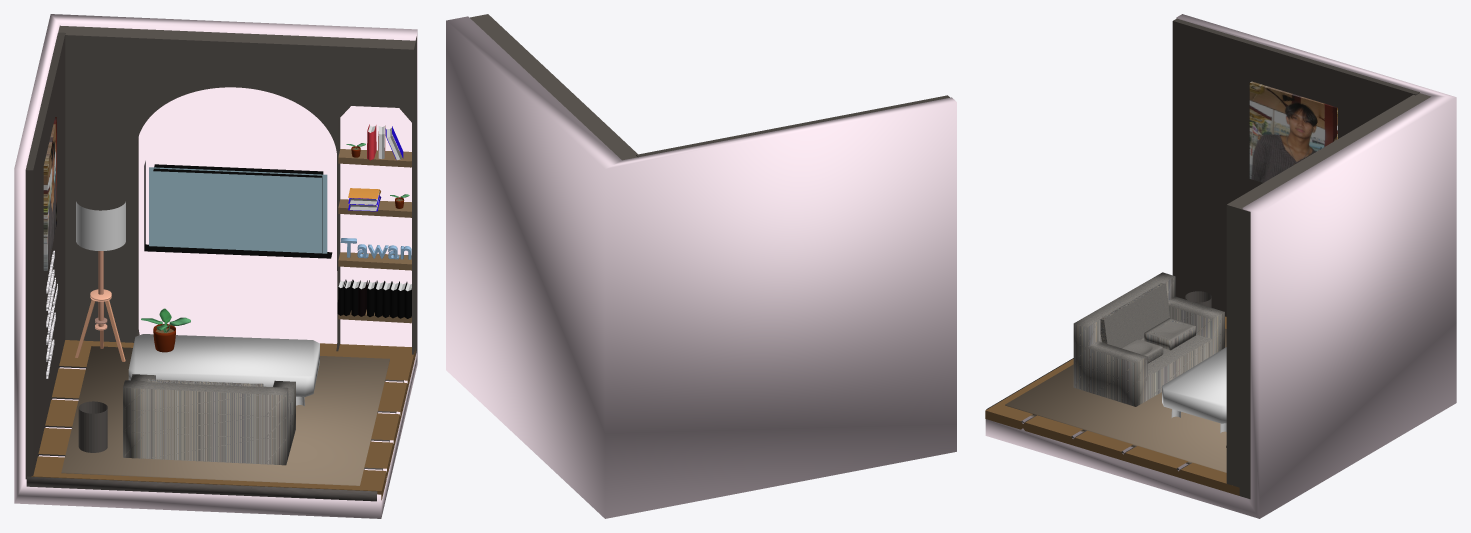
Rendered from room.glb.
3 renders of one model, left to right at view 1: azimuth 30°, elevation 25°; view 2: azimuth 150°, elevation 25°; view 3: azimuth 270°, elevation 25°, orthographic. The views are drawn at different scales.
Visible parts, largest first — view 1: Cube, ื, Plane, Plane.018, Plane.001, Cube.002, Cube.004, Plane.006, Cube.003, Plane.007, Cylinder.004, Plane.016 (+7 smaller); view 2: Cube, ื, Cube.002; view 3: Cube, Cube.002, ื, Plane.001, Plane, Plane.016, Cube.004, Plane.006, Plane.005, Plane.003.
Part boxes in pixels (<box>): Cube: <box>14,14,417,518</box>; ื: <box>58,25,416,355</box>; Plane: <box>61,346,389,485</box>; Plane.018: <box>149,167,327,253</box>; Plane.001: <box>123,374,295,465</box>; Cube.002: <box>25,32,65,479</box>; Cube.004: <box>31,340,415,500</box>; Plane.006: <box>128,334,319,396</box>; Cube.003: <box>26,366,403,501</box>; Plane.007: <box>144,161,332,258</box>; Cylinder.004: <box>76,201,125,250</box>; Plane.016: <box>43,117,56,270</box>; Cube: <box>446,16,956,518</box>; ื: <box>470,14,637,160</box>; Cube.002: <box>636,95,949,157</box>; Cube: <box>985,14,1456,518</box>; Cube.002: <box>1172,18,1419,316</box>; ื: <box>1226,93,1431,499</box>; Plane.001: <box>1073,272,1224,406</box>; Plane: <box>1005,328,1226,472</box>; Plane.016: <box>1249,81,1337,182</box>; Cube.004: <box>985,316,1239,495</box>; Plane.006: <box>1162,347,1226,423</box>; Plane.005: <box>1100,283,1169,347</box>; Plane.003: <box>1144,318,1195,350</box>.
Bounding box in the file's own units: 6.99 × 5.01 × 6.99.
Materials: 50 (7 with a texture image).
